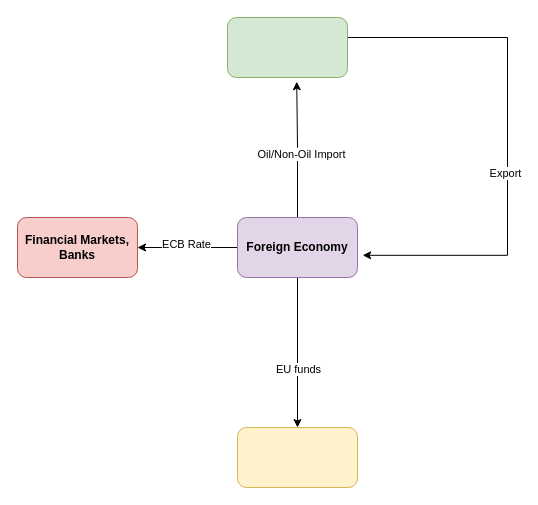
Some shapes in this 538 by 505 pixel diagram are drawn without their labels. The shapes that lost their labels are listed below. From the top down, each one's centre as x and y in pixels, then its label:
point (287, 47): Firms
point (297, 457): Government
